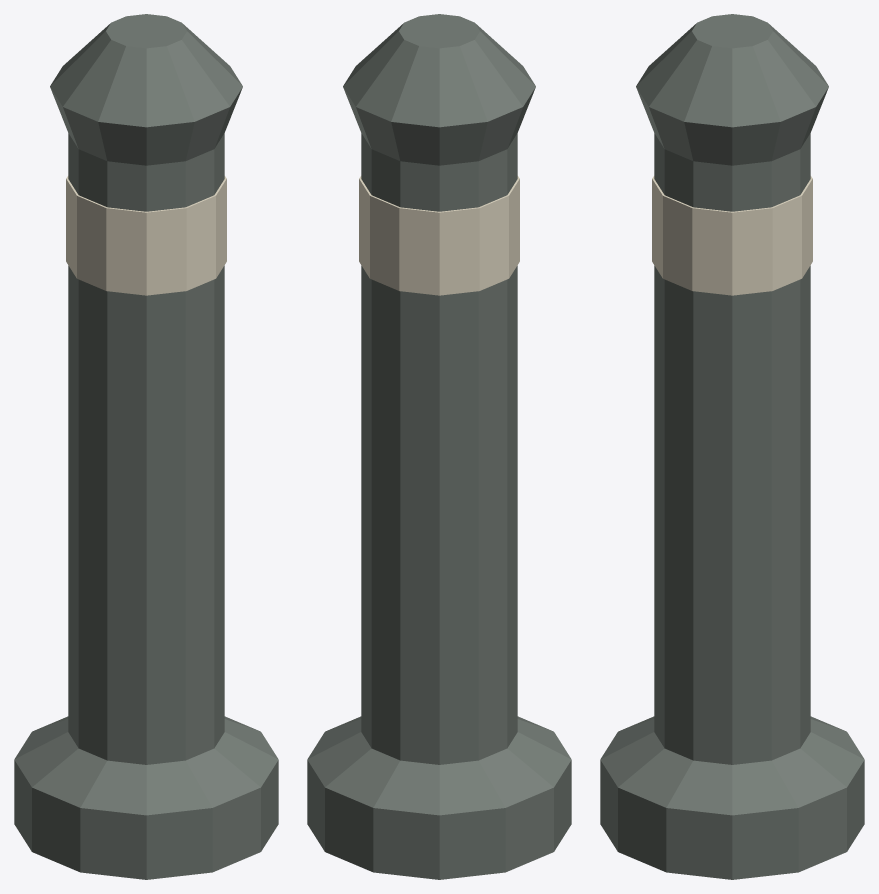
Rendered from bollard.glb.
The picture shows the model from 3 angles, left to right: view 1: azimuth 30°, elevation 25°; view 2: azimuth 150°, elevation 25°; view 3: azimuth 270°, elevation 25°; orthographic projection.
Visible parts, largest first — view 1: bollard; view 2: bollard; view 3: bollard.
Part boxes in pixels (x1,y1,x2,y2): bollard: [14, 14, 278, 879]; bollard: [307, 14, 571, 879]; bollard: [600, 14, 864, 879].
Bounding box in the file's own units: 0.26 × 0.86 × 0.26.
